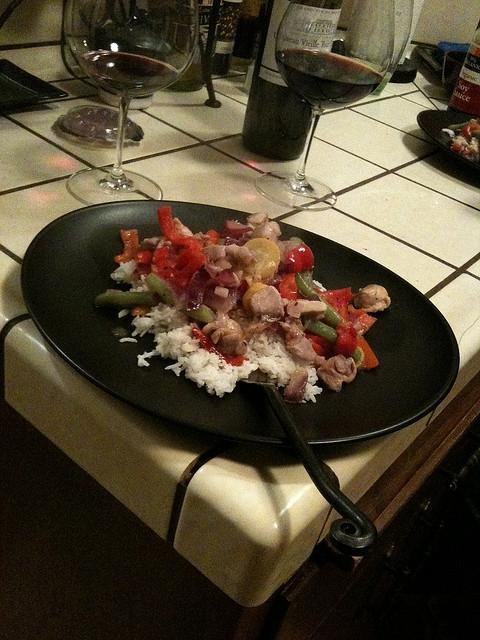bell pepper: (144, 272, 216, 324), (155, 243, 205, 290), (192, 326, 249, 366), (158, 206, 204, 248), (94, 290, 162, 308), (331, 317, 358, 357), (314, 287, 357, 312), (114, 230, 140, 264), (286, 244, 314, 274), (357, 337, 380, 369), (280, 274, 302, 300), (352, 314, 377, 334), (306, 334, 333, 352), (348, 304, 368, 324), (150, 245, 168, 265), (309, 339, 329, 356), (136, 250, 152, 264), (206, 230, 220, 246), (463, 124, 478, 138), (290, 237, 302, 246)
green bean: (146, 272, 216, 322), (307, 322, 361, 364), (95, 289, 161, 307), (321, 297, 342, 326), (448, 122, 472, 130)
